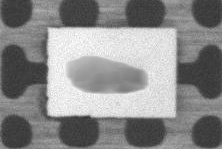DIE_INK: (83, 34, 222, 65)
